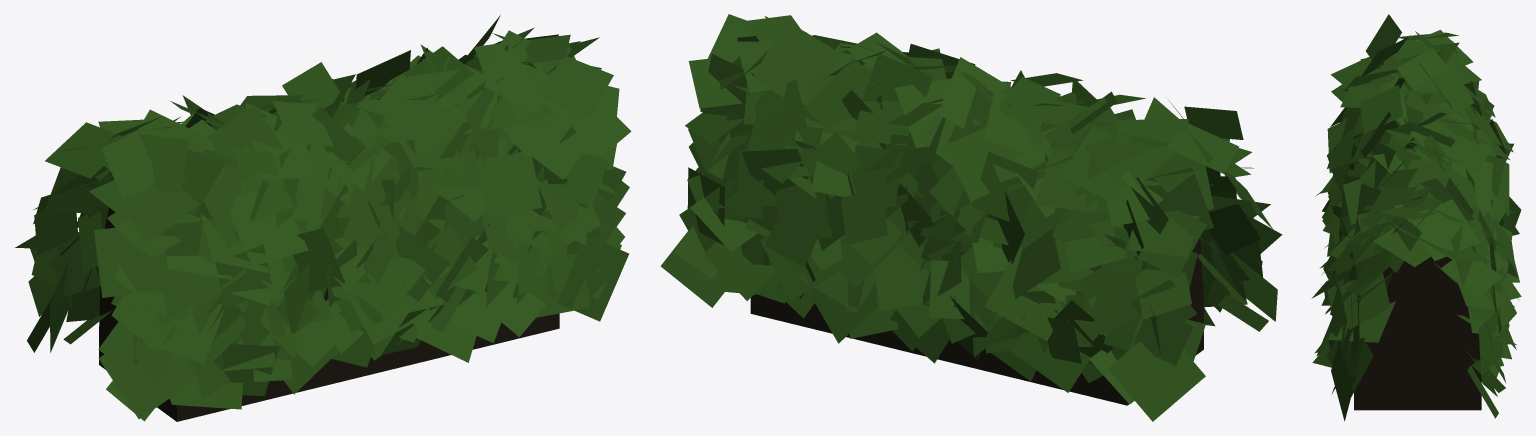
Rendered from hedge_run.glb.
3 renders of one model, left to right at view 1: azimuth 30°, elevation 25°; view 2: azimuth 150°, elevation 25°; view 3: azimuth 270°, elevation 25°, orthographic. The views are drawn at different scales.
Parts seen in each view (by area): view 1: hedge_run_lod0; view 2: hedge_run_lod0; view 3: hedge_run_lod0.
Part boxes in pixels (<box>): hedge_run_lod0: <box>15,15,631,421</box>; hedge_run_lod0: <box>660,14,1282,421</box>; hedge_run_lod0: <box>1311,14,1521,421</box>.
Size of what is drawn, in the model's own units: 4.8 by 2.38 by 1.98.
